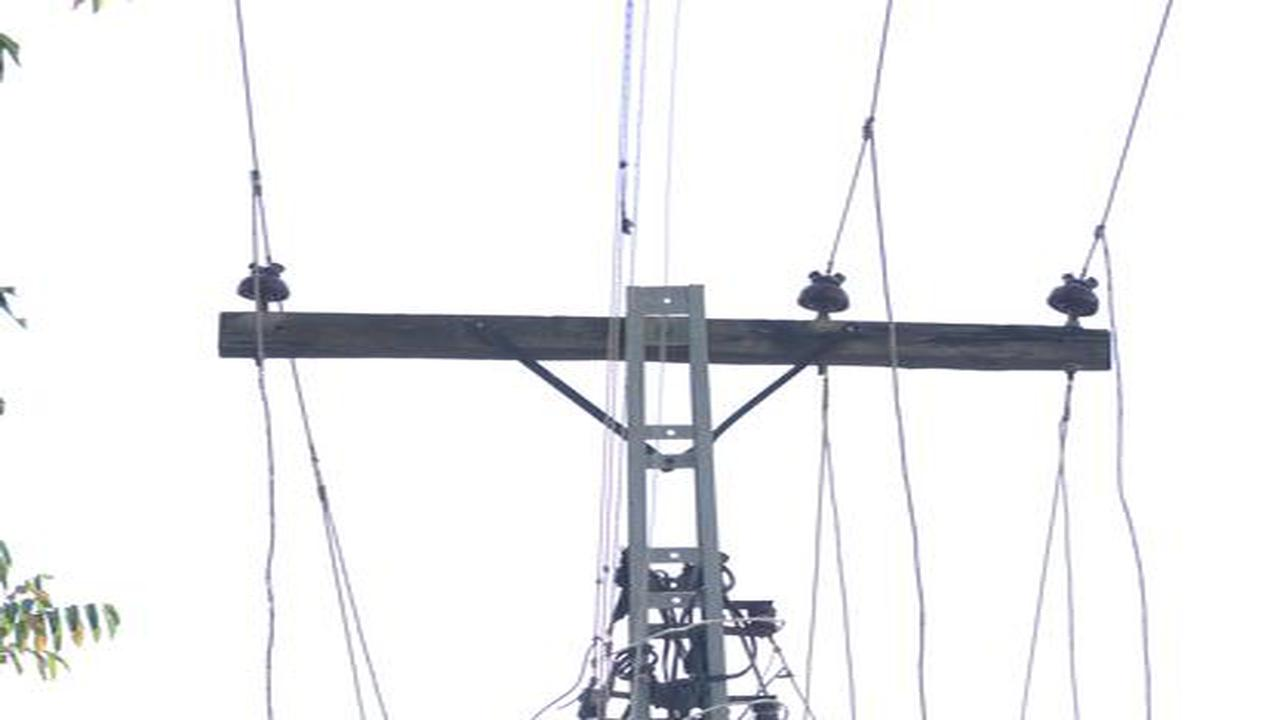insulator_pin: (1050, 270, 1102, 328), (798, 263, 851, 316), (235, 259, 294, 306)
